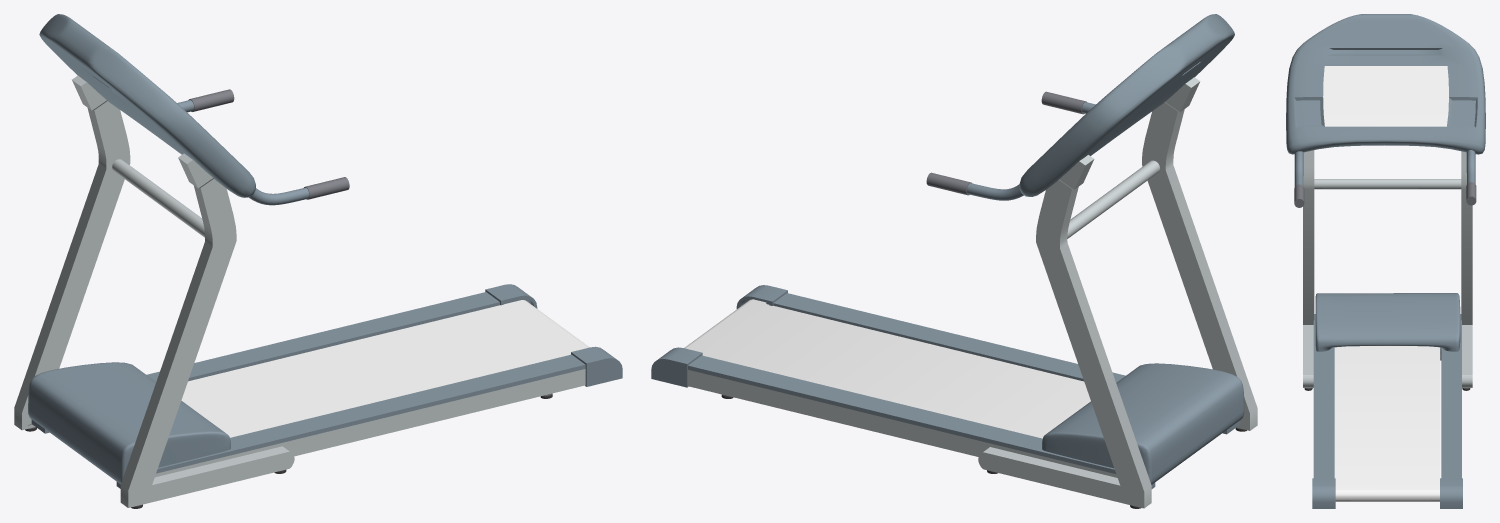
The model's file is Treadmill FBX.glb.
The picture shows the model from 3 angles, left to right: view 1: azimuth 30°, elevation 25°; view 2: azimuth 150°, elevation 25°; view 3: azimuth 270°, elevation 25°; orthographic projection. The views are drawn at different scales.
Visible parts, largest first — view 1: Lower_Base, Supporting_Rods, Front_Screen, extrudedSurface1_1; view 2: Lower_Base, Supporting_Rods, Front_Screen, extrudedSurface1; view 3: Lower_Base, Front_Screen, Supporting_Rods, extrudedSurface1_1, extrudedSurface1, pCylinder8.
Boxes of the visible parts, x1=… form: Lower_Base: x1=25, y1=284, x2=622, y2=508; Supporting_Rods: x1=14, y1=75, x2=294, y2=507; Front_Screen: x1=39, y1=14, x2=255, y2=197; extrudedSurface1_1: x1=248, y1=187, x2=309, y2=205; Lower_Base: x1=651, y1=285, x2=1246, y2=508; Supporting_Rods: x1=978, y1=77, x2=1257, y2=508; Front_Screen: x1=1019, y1=14, x2=1234, y2=196; extrudedSurface1: x1=967, y1=183, x2=1023, y2=200; Lower_Base: x1=1304, y1=293, x2=1470, y2=508; Front_Screen: x1=1286, y1=14, x2=1485, y2=154; Supporting_Rods: x1=1303, y1=150, x2=1472, y2=387; extrudedSurface1_1: x1=1294, y1=151, x2=1303, y2=186; extrudedSurface1: x1=1466, y1=150, x2=1475, y2=183; pCylinder8: x1=1466, y1=182, x2=1476, y2=205.
Bounding box in the file's own units: 27.25 × 22.54 × 12.62.
